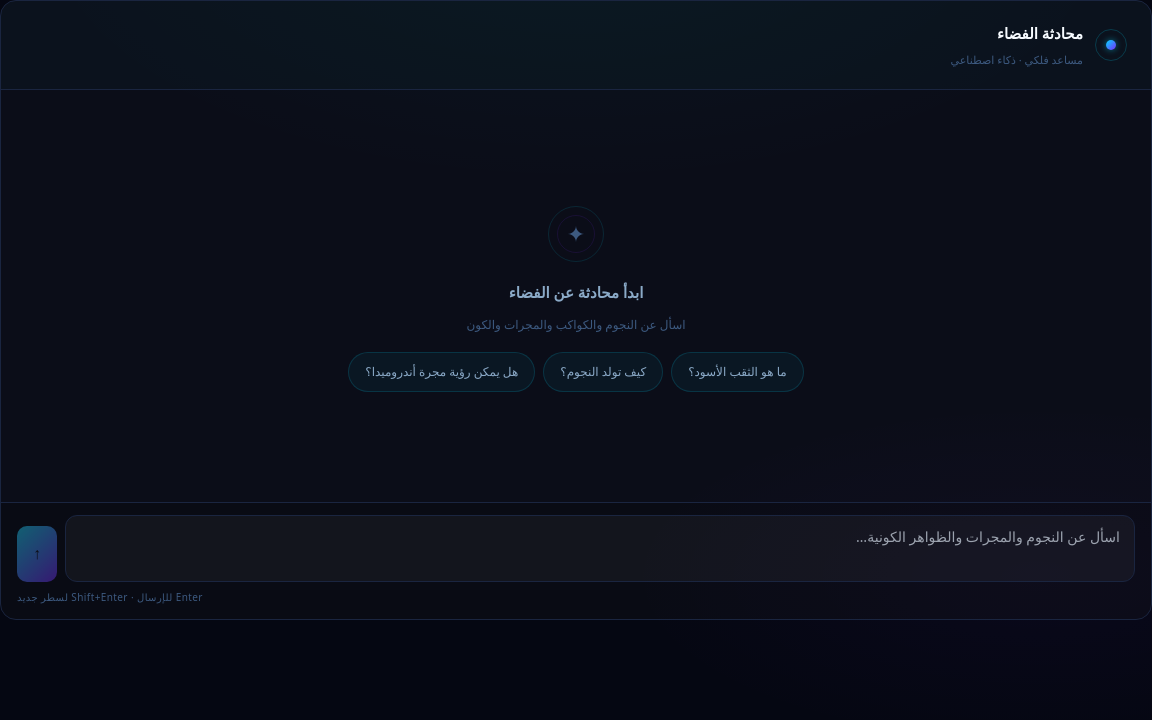
Test case: SpaceChat › shows error on API failure
The width and height of the screenshot is (1152, 720).
Type "سؤال" into the text box with test id "chat-input" at (600, 548), box [65,515,1135,582]
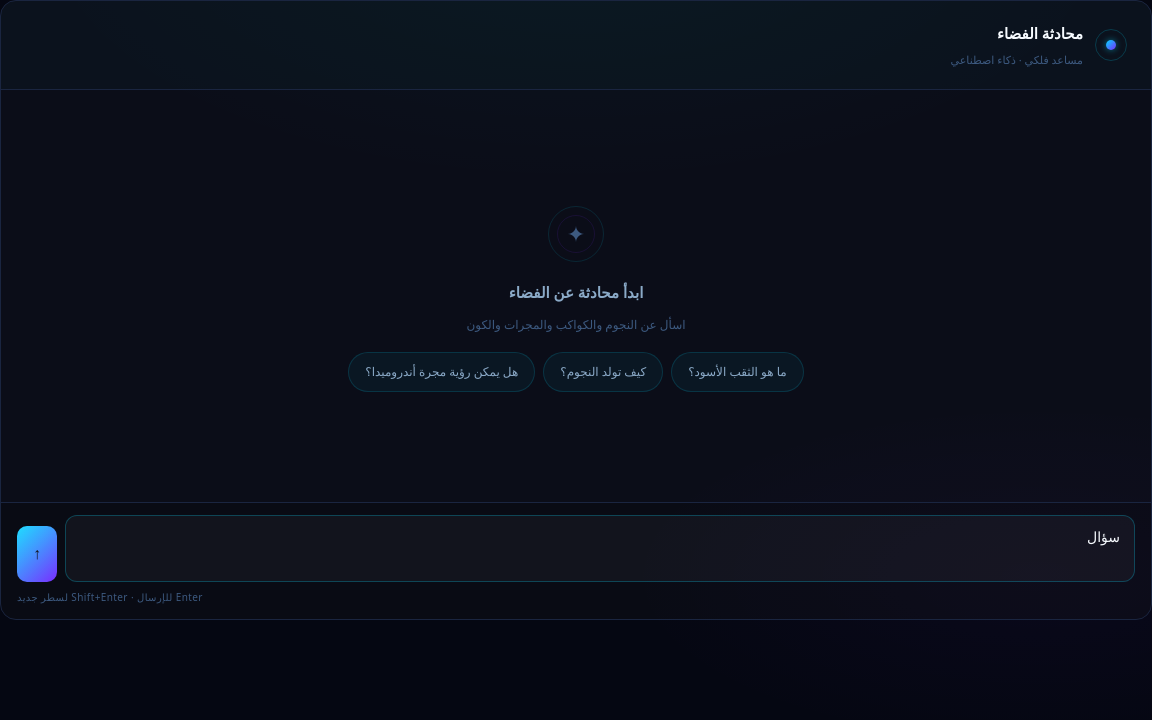
Click the button with test id "chat-send" at (37, 554), box [17,526,57,582]
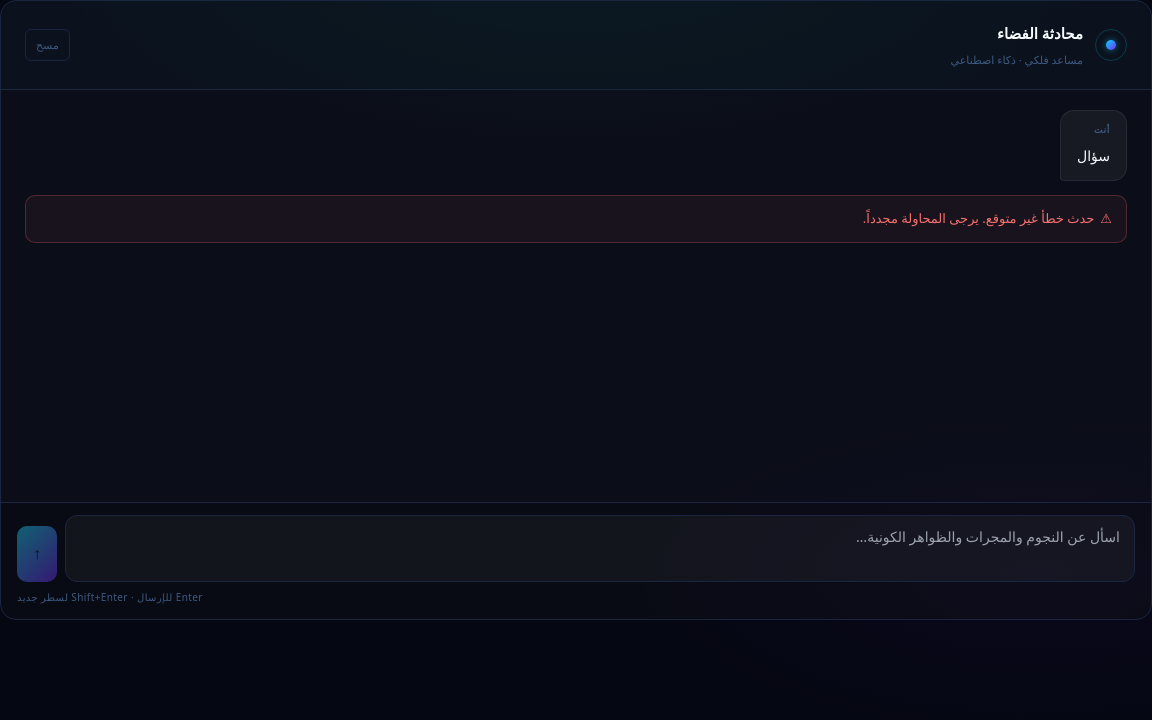
Result: the message "⚠حدث خطأ غير متوقع. يرجى المحاولة مجدداً." is shown at [25,195,1127,242]
